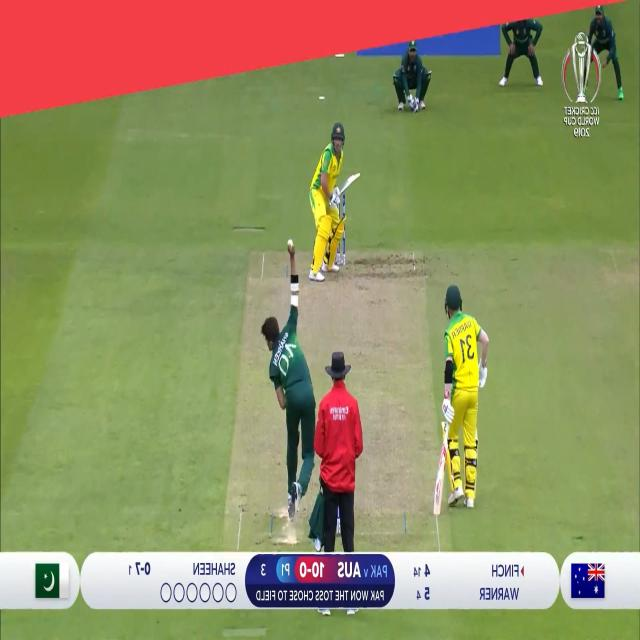ball: (286, 236, 297, 254)
